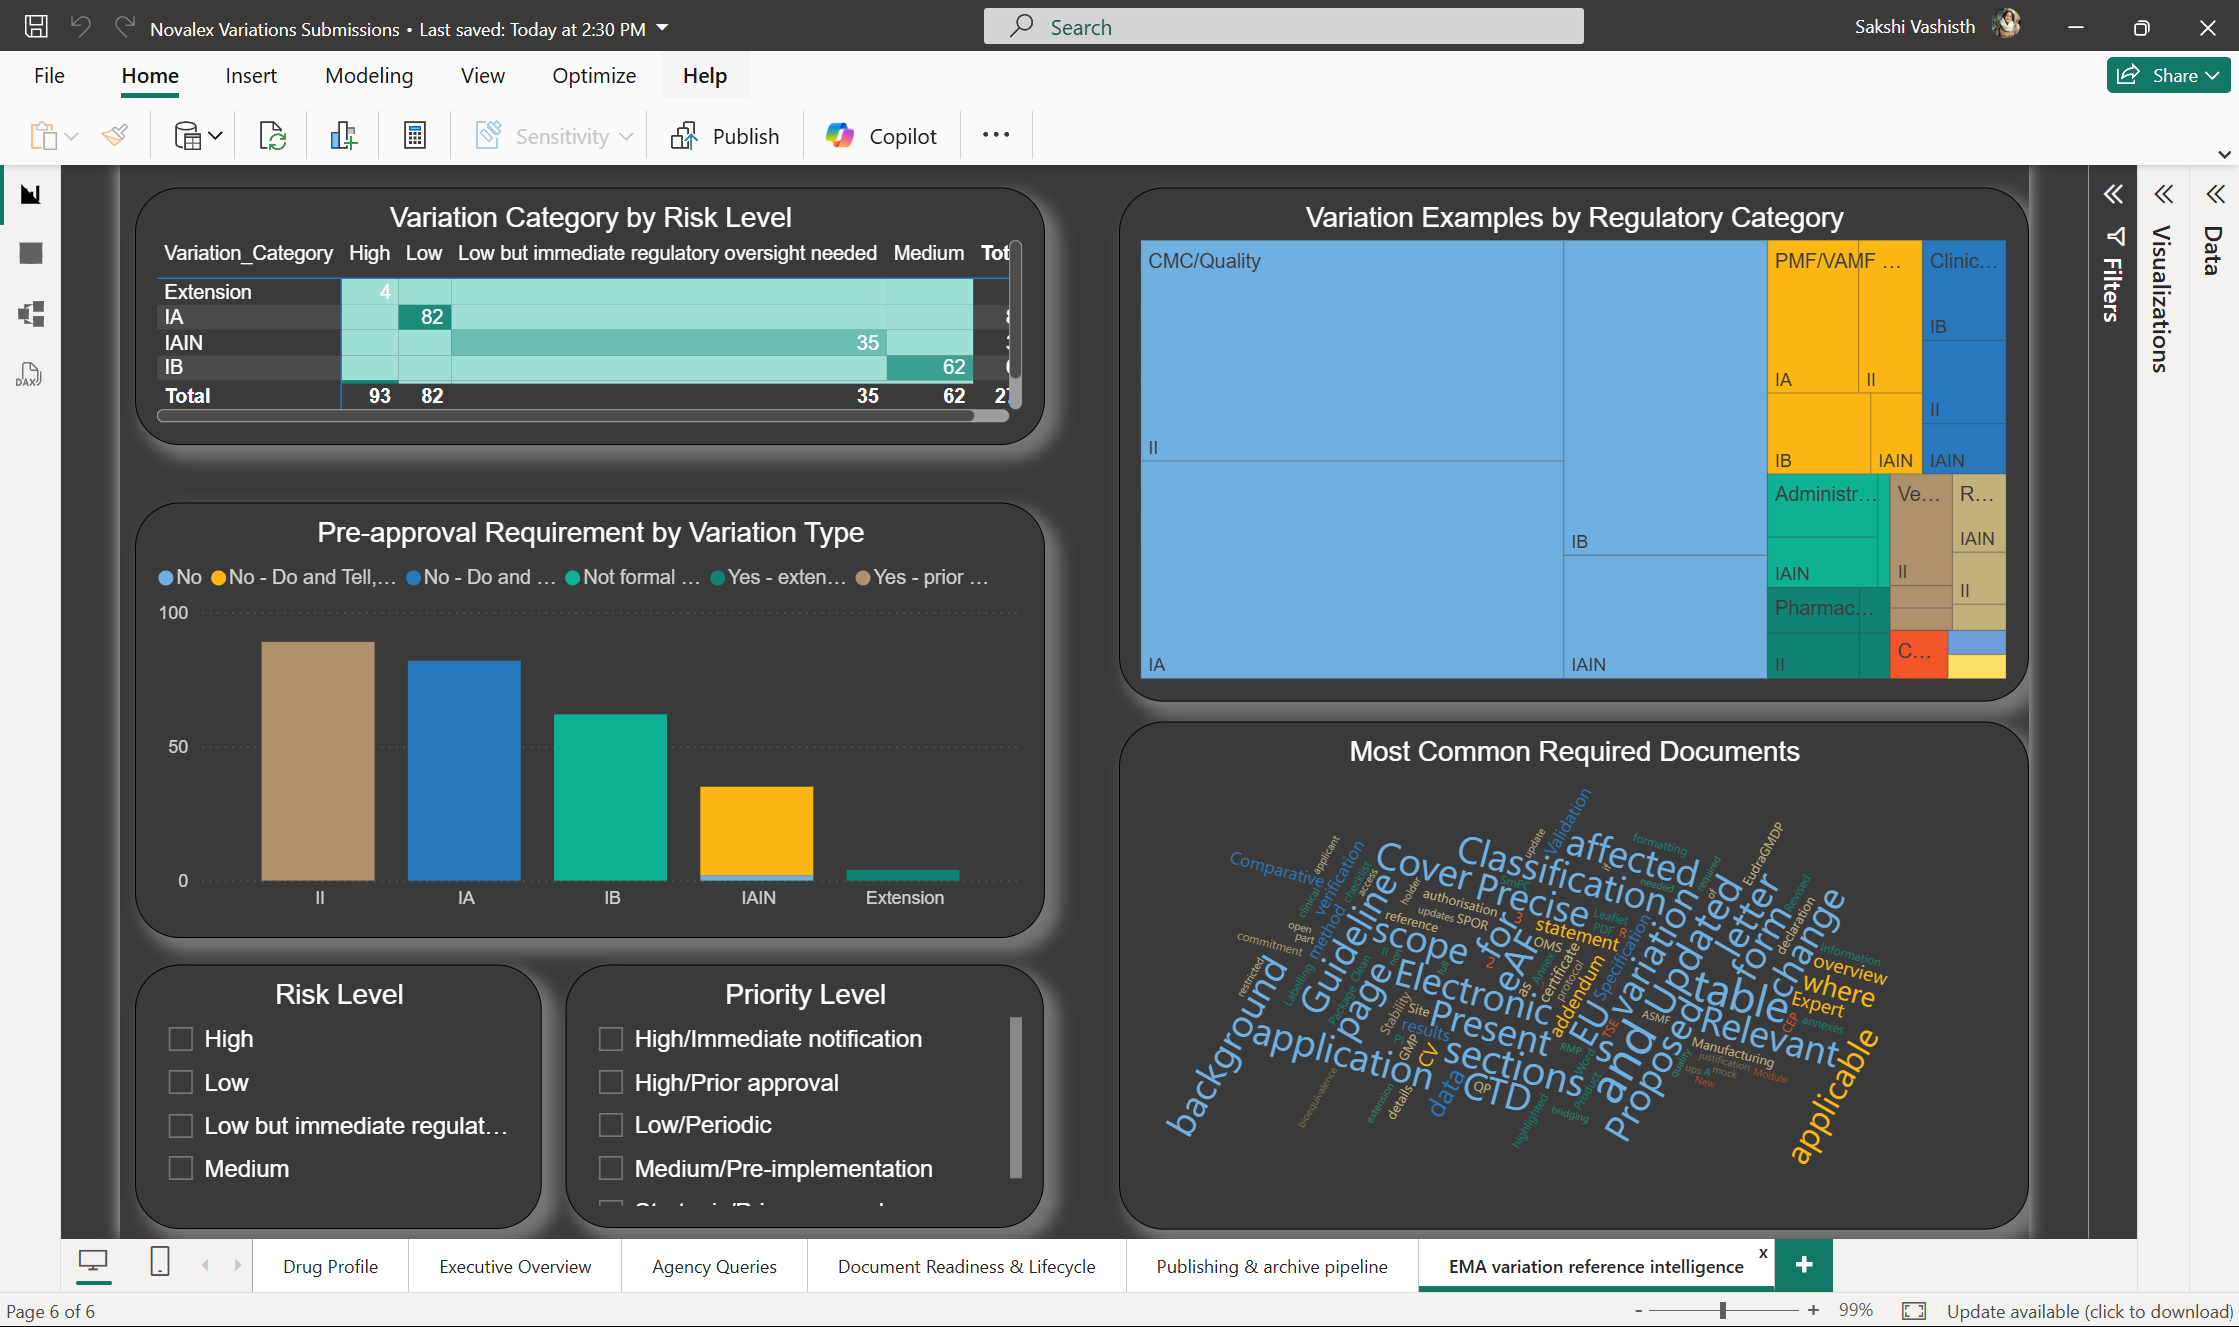

This screenshot's page, from the dashboard's own definition file:
{"tool":"powerbi","page":{"name":"EMA variation reference intelligence ","canvas":[1280,720],"ordinal":5},"visuals":[{"type":"pivotTable","title":"Variation Category by Risk Level","fields":{"Rows":["ema_variations_master_database.Variation_Category"],"Columns":["ema_variations_master_database.Risk_Level"],"Values":["Count(ema_variations_master_database.Trigger_ID)"]},"box":[10,15.5,610,172.7],"z":0},{"type":"columnChart","title":"Pre-approval Requirement by Variation Type","fields":{"Category":["ema_variations_master_database.Variation_Category"],"Y":["CountNonNull(ema_variations_master_database.Trigger_ID)"],"Series":["ema_variations_master_database.Preapproval_Required_or_Not"]},"box":[10,226.4,610,291.8],"z":1000},{"type":"treemap","title":"Variation Examples by Regulatory Category","fields":{"Group":["ema_variations_master_database.Type_of_Example"],"Details":["ema_variations_master_database.Variation_Category"],"Values":["CountNonNull(ema_variations_master_database.Trigger_ID)"]},"box":[670,15.5,610,344.5],"z":2000},{"type":"WordCloud1447959067750","title":"Most Common Required Documents","fields":{"Category":["ema_variations_master_database.Key_Documents_Involved"],"Values":["Count(ema_variations_master_database.Trigger_ID)"]},"box":[670,372.7,610,340.9],"z":3000},{"type":"slicer","title":"Risk Level","fields":{"Values":["ema_variations_master_database.Risk_Level"]},"box":[10,536.4,272.7,177.3],"z":4000},{"type":"slicer","title":"Priority Level","fields":{"Values":["ema_variations_master_database.Priority_Level"]},"box":[299.1,536.4,320.9,176.4],"z":5000}]}

Visuals, with their boxes on the page's 1280x720 design canvas (x1, y1, x2, y2). These are canvas units, not pixel positions in the 2239x1327 screenshot, which may show the page scaled, cropped or inside an application window:
"Variation Category by Risk Level" pivotTable: locate(10, 16, 620, 188)
"Pre-approval Requirement by Variation Type" columnChart: locate(10, 226, 620, 518)
"Variation Examples by Regulatory Category" treemap: locate(670, 16, 1280, 360)
"Most Common Required Documents" WordCloud1447959067750: locate(670, 373, 1280, 714)
"Risk Level" slicer: locate(10, 536, 283, 714)
"Priority Level" slicer: locate(299, 536, 620, 713)
